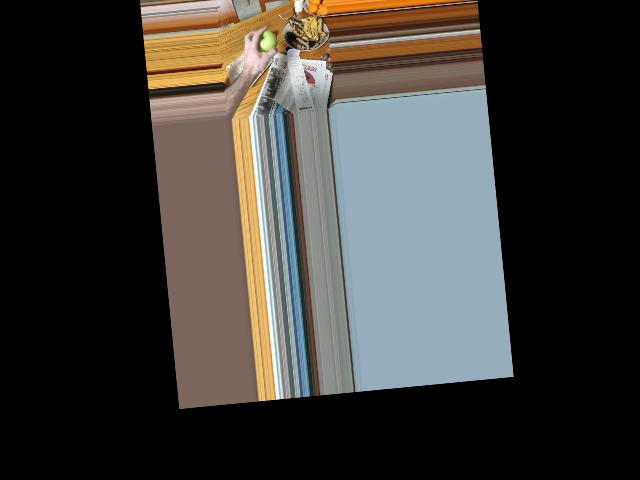apple: (255, 26, 279, 53)
